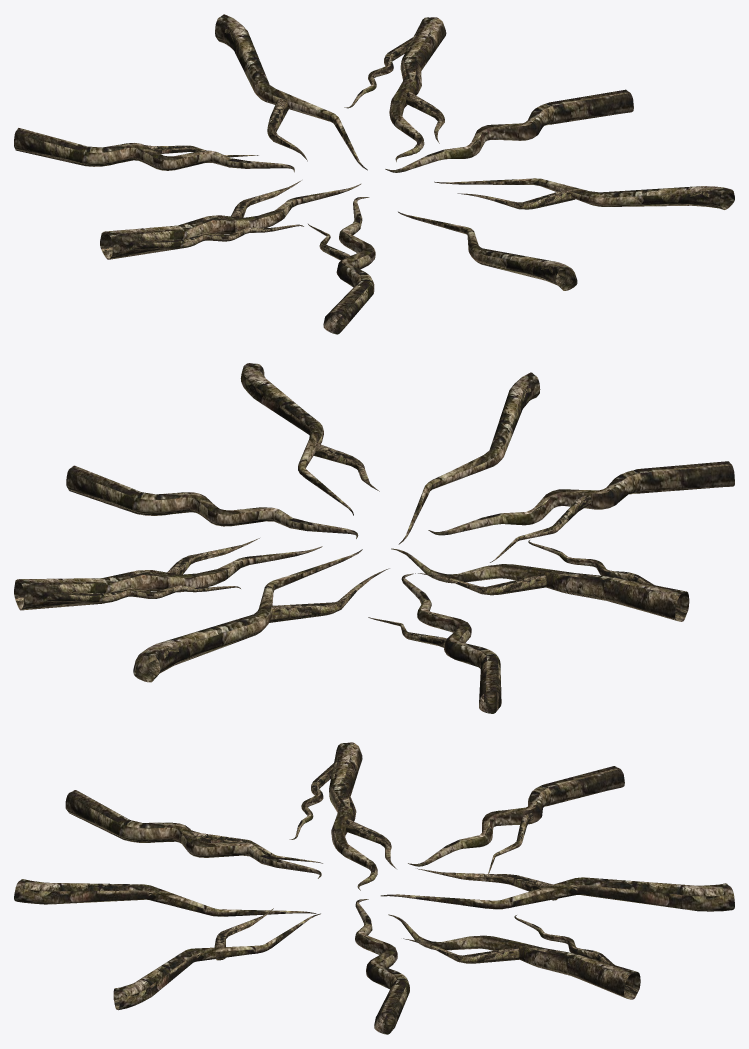
File: Blocker.fbx
3 views of the same model, one above another, from view 1: azimuth 30°, elevation 25°; view 2: azimuth 150°, elevation 25°; view 3: azimuth 270°, elevation 25° (orthographic). The views are drawn at different scales.
Parts seen in each view (by area): view 1: Root 1.009; view 2: Root 1.009; view 3: Root 1.009.
Boxes of the visible parts, x1,y1,x2,y2 form: Root 1.009: (14,14,734,334); Root 1.009: (14,363,734,713); Root 1.009: (14,742,734,1034).
Size of the model in its own units: 3218 by 251 by 3664.
